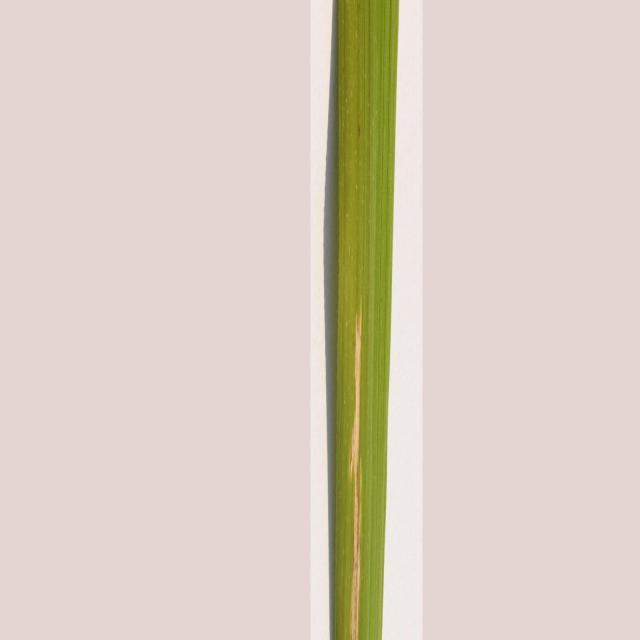leaf blight: (342, 303, 373, 640)
